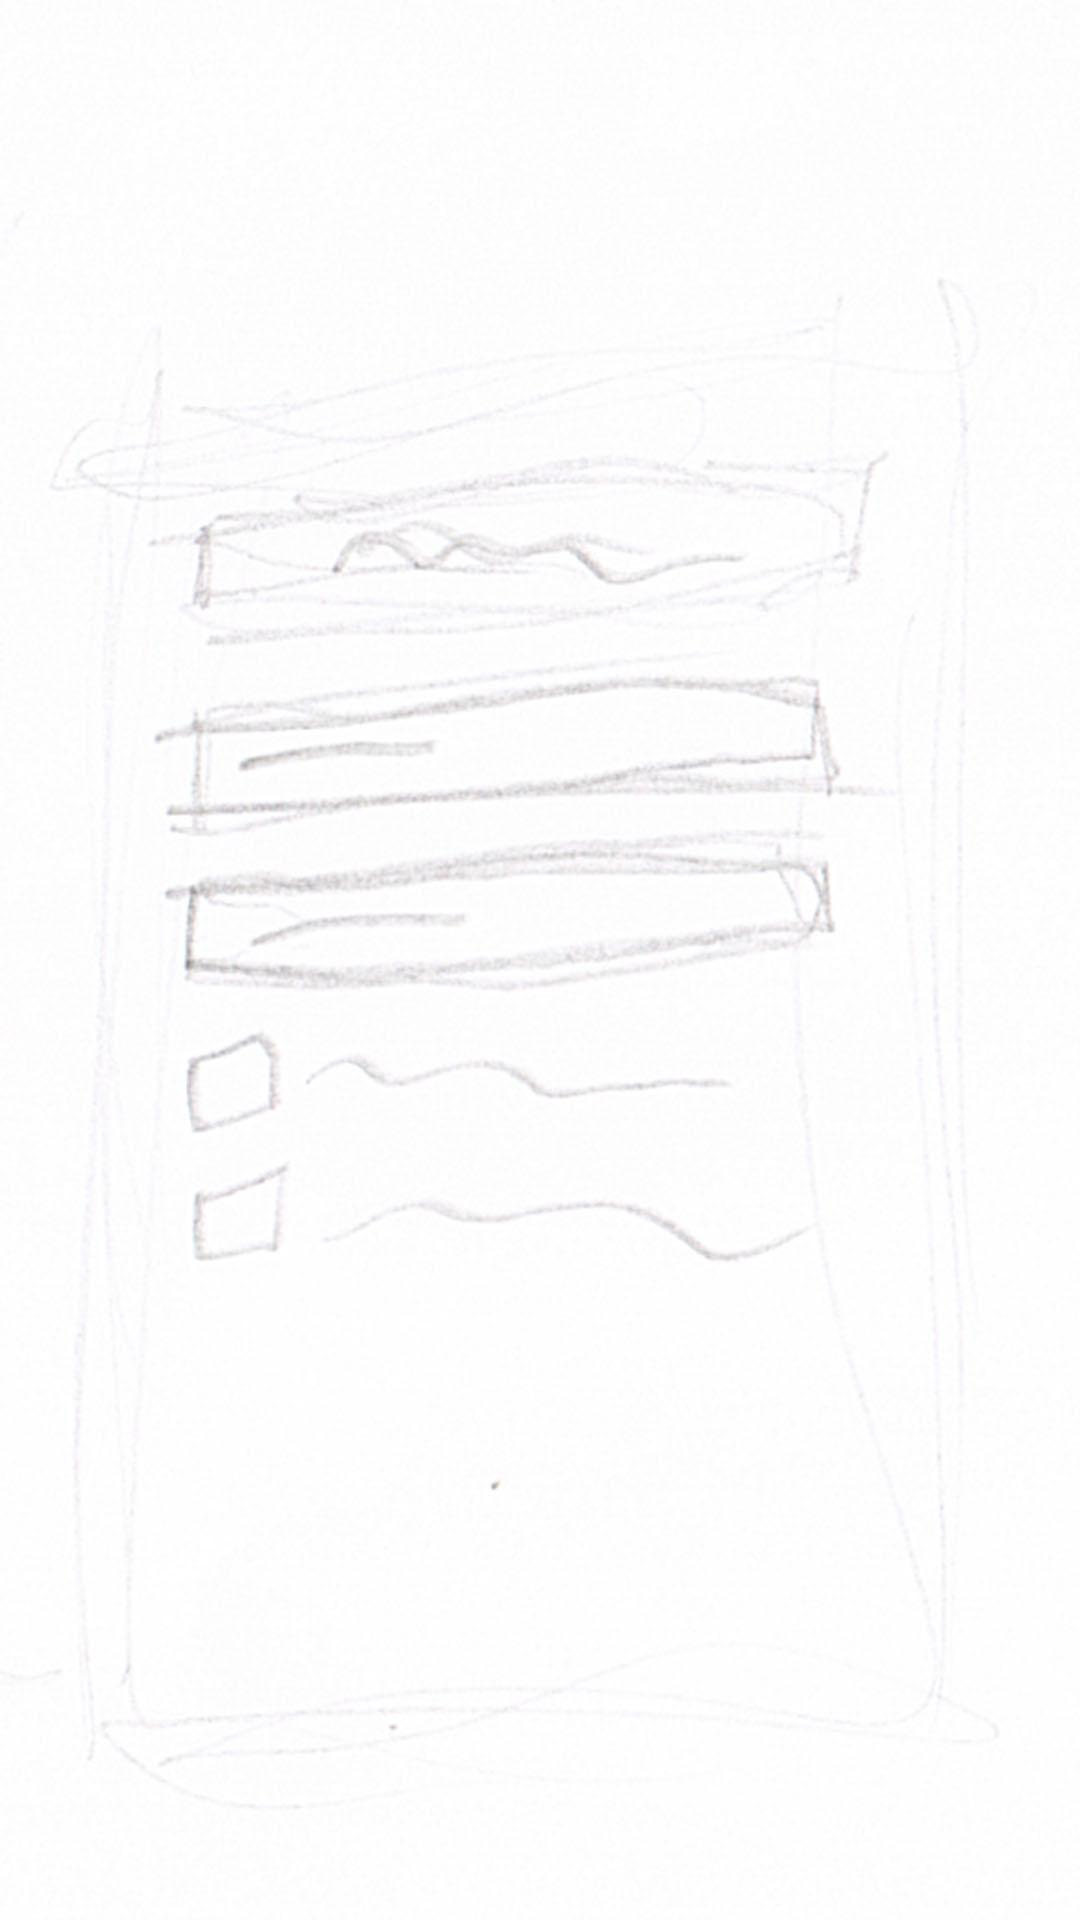Button: (194, 463, 878, 637)
CheckBox: (187, 1162, 814, 1266), (182, 1031, 735, 1137)
Screen: (104, 339, 988, 1778)
TextBox: (178, 835, 833, 981), (186, 682, 828, 827)
